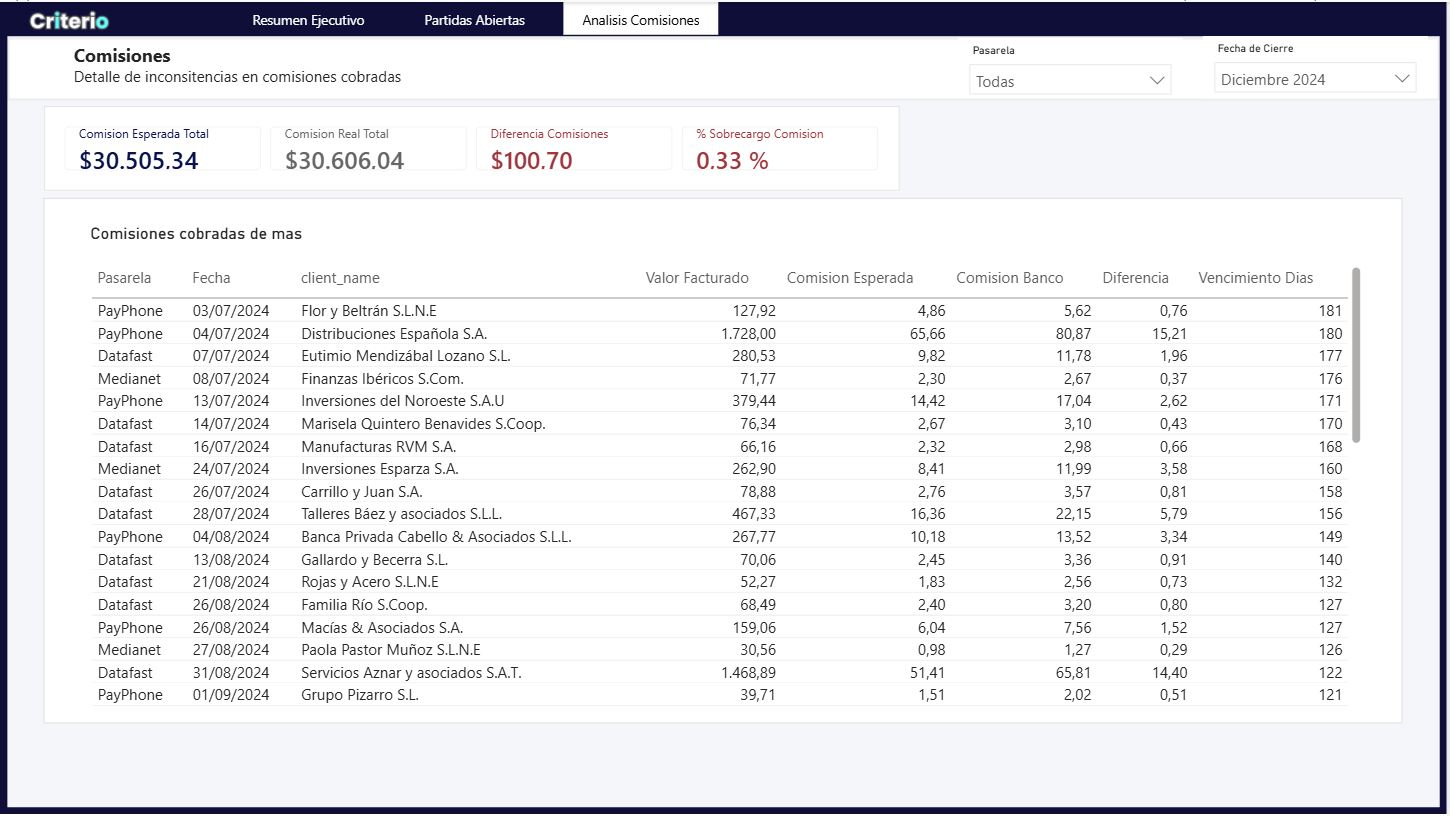

What the dashboard file says about the page in this screenshot:
{"tool":"powerbi","page":{"name":"Analisis Comisiones","canvas":[1280,720],"ordinal":2},"visuals":[{"type":"tableEx","title":"Comisiones cobradas de mas ","fields":{"Values":["reconciliation_output.gateway","reconciliation_output.fecha_tx","reconciliation_output.client_name","Sum(reconciliation_output.monto_bruto_erp)","Sum(reconciliation_output.comision_esperada)","Sum(reconciliation_output.comision_banco)","Sum(reconciliation_output.diff_comision)","_Medidas.Aging Dias"]},"box":[61.4,177.1,1149,467],"z":0},{"type":"cardVisual","fields":{"Data":["_Medidas.Comision Esperada Total","_Medidas.Comision Real Total","_Medidas.Diferencia Comisiones","_Medidas.% Sobrecargo Comision"]},"box":[40,92,757,75],"z":1000},{"type":"pageNavigator","box":[205.1,0,433.6,29.8],"z":2000},{"type":"slicer","fields":{"Values":["Fechas Cierre.Periodo"]},"box":[1065,30,199,55],"z":3000},{"type":"textbox","box":[61,31,422,58],"z":4000},{"type":"slicer","fields":{"Values":["reconciliation_output.gateway"]},"box":[848,32,199,51],"z":5000}]}

Visuals, with their boxes in screenshot pixels (x1, y1, x2, y2), scaled from the page's 1280x720 canvas onto the 1450x816 screenshot:
"Comisiones cobradas de mas " tableEx: 70, 201, 1371, 730
cardVisual - _Medidas.Comision Esperada Total x _Medidas.Comision Real Total: 45, 104, 903, 189
pageNavigator: 232, 0, 724, 34
slicer - Fechas Cierre.Periodo: 1206, 34, 1432, 96
textbox: 69, 35, 547, 101
slicer - reconciliation_output.gateway: 961, 36, 1186, 94
